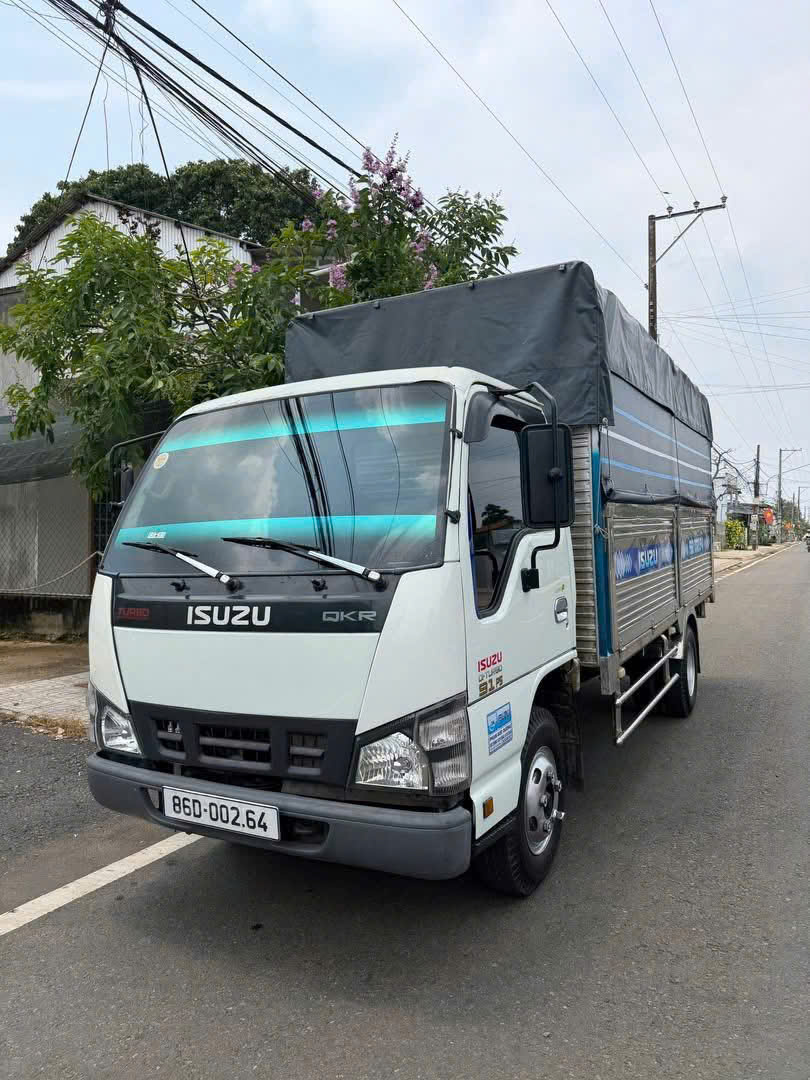Bien-so: (166, 784, 284, 844)
